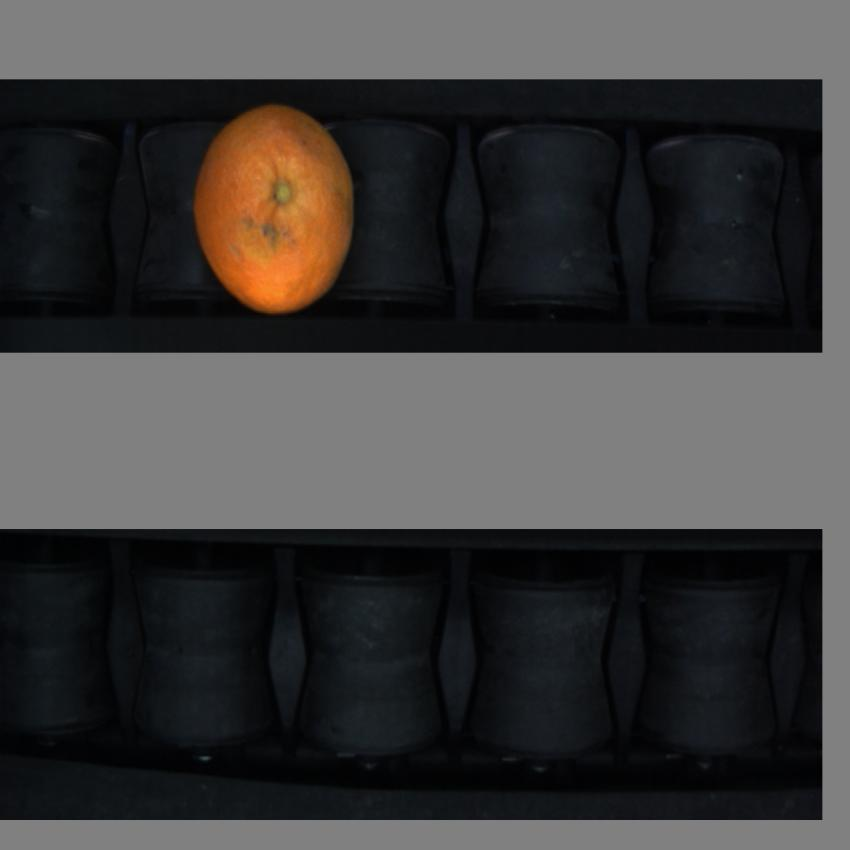Mal estado: (192, 90, 363, 322)
